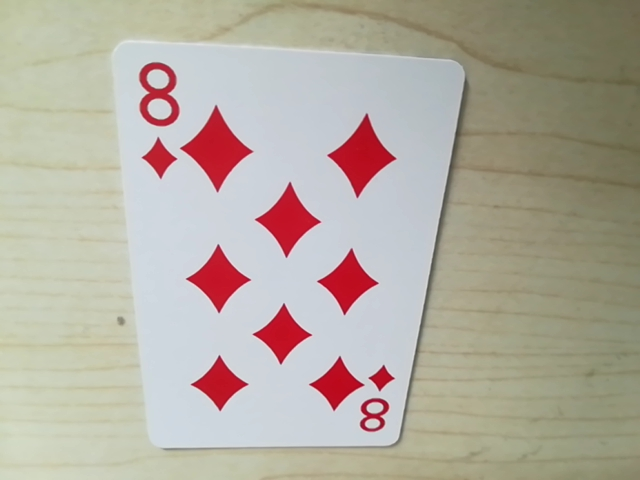fk 8: (124, 51, 190, 171), (353, 373, 399, 442)
